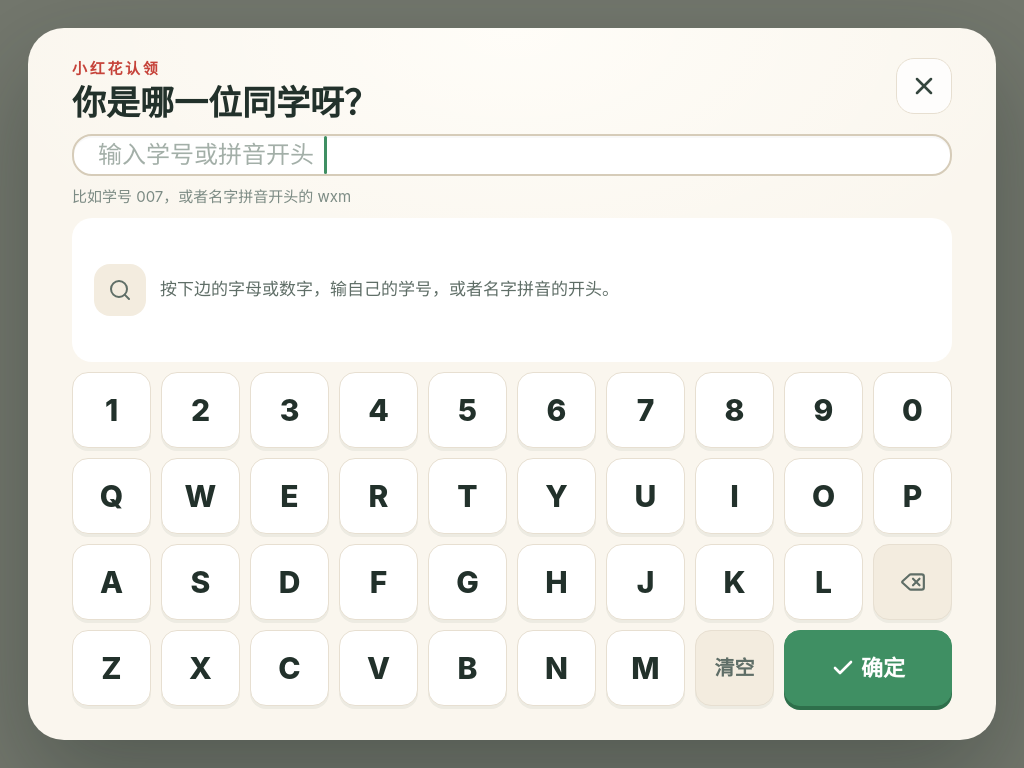
Scenario: IdentifySheet › TestNoAutoConfirmOnDuplicateName
The image size is (1024, 768).
Later steps or results of the test are not shown.
What coordinates should you click on to do the following:
click the button "0"
I would click on:
 (912, 410)
Its box is 873,372 -> 952,448.
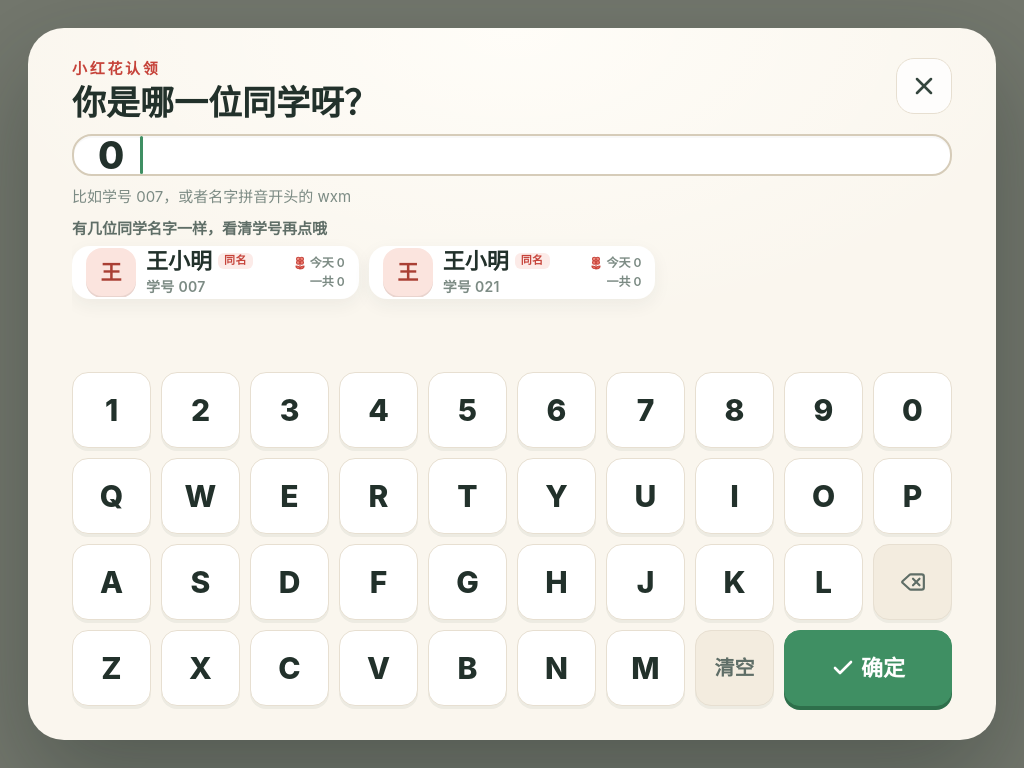
expect the number of buttons with class "candidate" is 2: met, box 72,246 -> 359,299; 369,246 -> 655,299
expect the button with class "candidate" showing "王 王小明 同名 学号 021 今天 0 一共 0" is shown: met, box 369,246 -> 655,299
